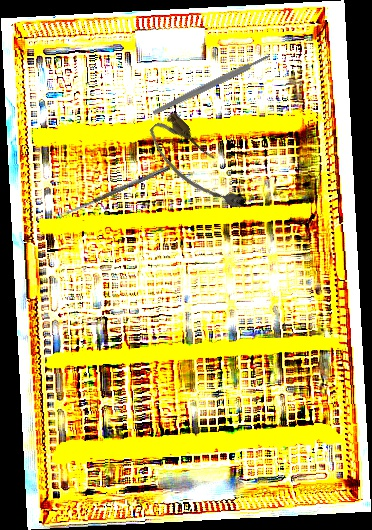Cannula: (142, 108, 252, 225)
Scalpel Handle: (151, 53, 272, 116)
Surgical Spoon: (58, 164, 171, 219)
